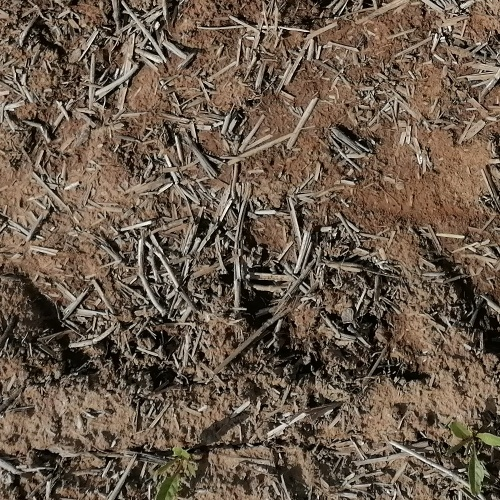beet: (452, 422, 500, 491), (154, 446, 196, 500)
